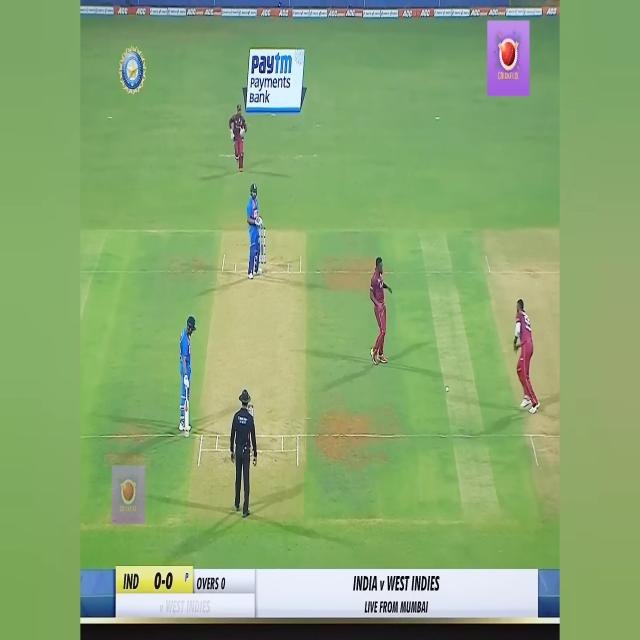fully_visible: (249, 49, 293, 76)
